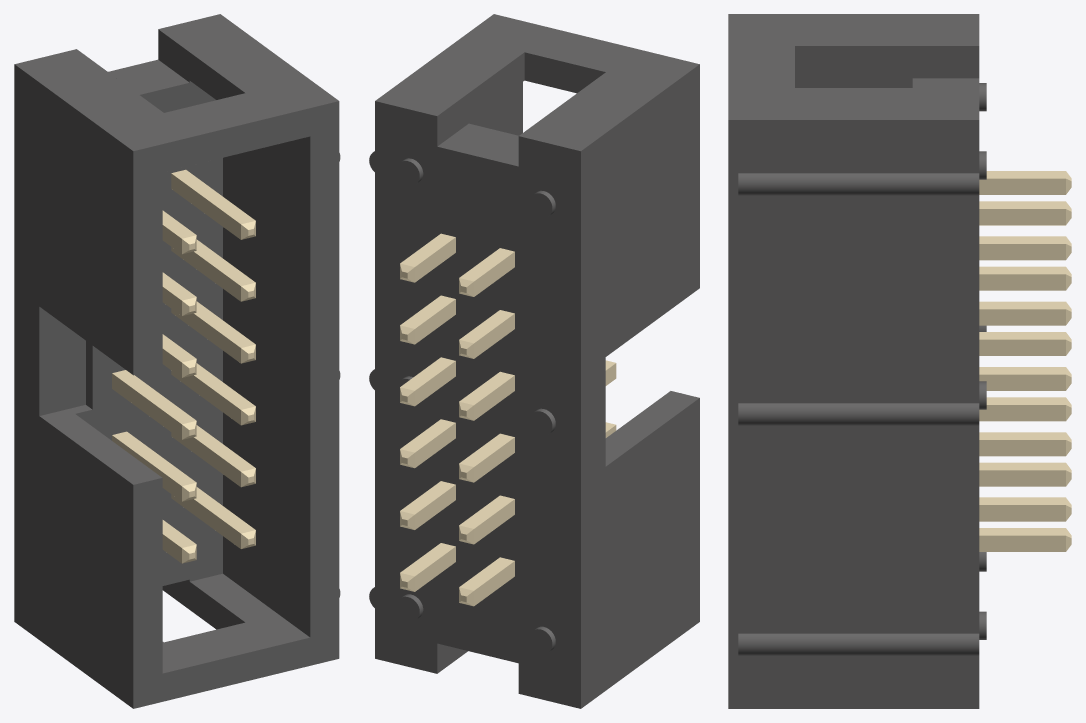
Rendered from IDC-Header_2x06_P2.54mm_Vertical.glb.
3 views of the same model, side by side, from view 1: azimuth 30°, elevation 25°; view 2: azimuth 150°, elevation 25°; view 3: azimuth 270°, elevation 25° (orthographic). The views are drawn at different scales.
Parts seen in each view (by area): view 1: Shape_IndexedFaceSet, Shape_IndexedFaceSet.002, Shape_IndexedFaceSet.014, Shape_IndexedFaceSet.017, Shape_IndexedFaceSet.001, Shape_IndexedFaceSet.013, Shape_IndexedFaceSet.004, Shape_IndexedFaceSet.005, Shape_IndexedFaceSet.011, Shape_IndexedFaceSet.019, Shape_IndexedFaceSet.026, Shape_IndexedFaceSet.071 (+15 smaller); view 2: Shape_IndexedFaceSet.007, Shape_IndexedFaceSet, Shape_IndexedFaceSet.001, Shape_IndexedFaceSet.011, Shape_IndexedFaceSet.005, Shape_IndexedFaceSet.026, Shape_IndexedFaceSet.010, Shape_IndexedFaceSet.014, Shape_IndexedFaceSet.071, Shape_IndexedFaceSet.057, Shape_IndexedFaceSet.061, Shape_IndexedFaceSet.075 (+20 smaller); view 3: Shape_IndexedFaceSet.008, Shape_IndexedFaceSet.001, Shape_IndexedFaceSet.009, Shape_IndexedFaceSet.024, Shape_IndexedFaceSet.025, Shape_IndexedFaceSet.023, Shape_IndexedFaceSet.046, Shape_IndexedFaceSet.060, Shape_IndexedFaceSet.088, Shape_IndexedFaceSet.116, Shape_IndexedFaceSet.130, Shape_IndexedFaceSet.144 (+20 smaller).
Boxes of the visible parts, x1,y1,x2,y2 form: Shape_IndexedFaceSet: [14, 64, 133, 708]; Shape_IndexedFaceSet.002: [133, 101, 339, 708]; Shape_IndexedFaceSet.014: [223, 136, 310, 636]; Shape_IndexedFaceSet.017: [76, 81, 222, 585]; Shape_IndexedFaceSet.001: [15, 14, 338, 151]; Shape_IndexedFaceSet.013: [162, 573, 309, 673]; Shape_IndexedFaceSet.004: [39, 307, 85, 415]; Shape_IndexedFaceSet.005: [39, 405, 161, 484]; Shape_IndexedFaceSet.011: [158, 29, 244, 99]; Shape_IndexedFaceSet.019: [162, 579, 244, 629]; Shape_IndexedFaceSet.026: [108, 59, 189, 94]; Shape_IndexedFaceSet.071: [112, 373, 181, 439]; Shape_IndexedFaceSet.007: [369, 101, 580, 708]; Shape_IndexedFaceSet: [581, 64, 699, 708]; Shape_IndexedFaceSet.001: [375, 14, 699, 151]; Shape_IndexedFaceSet.011: [437, 52, 524, 146]; Shape_IndexedFaceSet.005: [605, 391, 699, 466]; Shape_IndexedFaceSet.026: [437, 123, 518, 166]; Shape_IndexedFaceSet.010: [524, 52, 605, 93]; Shape_IndexedFaceSet.014: [469, 82, 522, 135]; Shape_IndexedFaceSet.071: [474, 363, 616, 482]; Shape_IndexedFaceSet.057: [474, 425, 616, 544]; Shape_IndexedFaceSet.061: [459, 422, 615, 528]; Shape_IndexedFaceSet.075: [459, 360, 615, 466]; Shape_IndexedFaceSet.008: [728, 120, 979, 708]; Shape_IndexedFaceSet.001: [728, 14, 979, 119]; Shape_IndexedFaceSet.009: [795, 46, 979, 78]; Shape_IndexedFaceSet.024: [738, 403, 979, 425]; Shape_IndexedFaceSet.025: [738, 173, 979, 195]; Shape_IndexedFaceSet.023: [738, 633, 979, 655]; Shape_IndexedFaceSet.046: [979, 505, 1065, 521]; Shape_IndexedFaceSet.060: [979, 440, 1065, 456]; Shape_IndexedFaceSet.088: [979, 309, 1065, 325]; Shape_IndexedFaceSet.116: [979, 244, 1065, 260]; Shape_IndexedFaceSet.130: [979, 535, 1065, 551]; Shape_IndexedFaceSet.144: [979, 470, 1065, 486].
Size of the model in its own units: 3.58 by 9.02 by 4.76.
